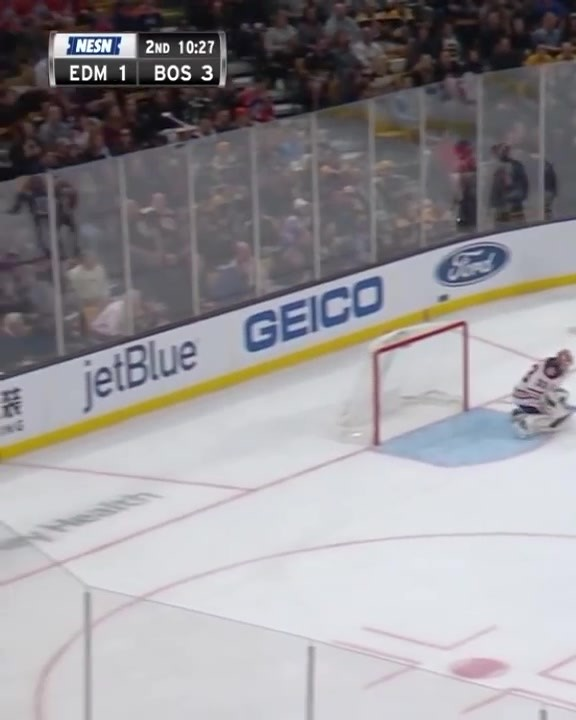Geico: (237, 270, 398, 360)
